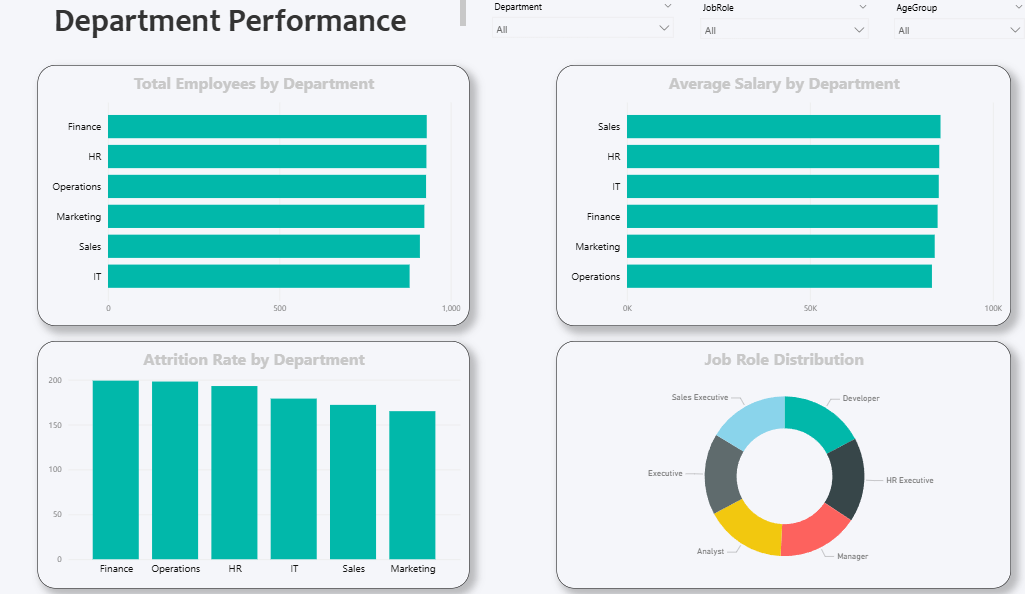

The page's visual inventory and layout, read from the dashboard file:
{"tool":"powerbi","page":{"name":"Department Analysis","canvas":[1379,804],"ordinal":1},"visuals":[{"type":"textbox","box":[0,0,630,70],"z":0},{"type":"barChart","title":"Total Employees by Department","fields":{"Category":["PowerBI_Employee_5000_Data.Department"],"Y":["CountNonNull(PowerBI_Employee_5000_Data.EmployeeID)"]},"box":[54,92,576,348],"z":1000},{"type":"columnChart","title":"Attrition Rate by Department","fields":{"Category":["PowerBI_Employee_5000_Data.Department"],"Y":["Sum(PowerBI_Employee_5000_Data.Attrition Count)"]},"box":[54,460,576,330],"z":2000},{"type":"barChart","title":"Average Salary by Department","fields":{"Category":["PowerBI_Employee_5000_Data.Department"],"Y":["Avg(PowerBI_Employee_5000_Data.Salary)"]},"box":[746,92,606,348],"z":3000},{"type":"donutChart","title":"Job Role Distribution","fields":{"Category":["PowerBI_Employee_5000_Data.JobRole"],"Y":["CountNonNull(PowerBI_Employee_5000_Data.EmployeeID)"]},"box":[746,460,606,330],"z":4000},{"type":"slicer","fields":{"Values":["PowerBI_Employee_5000_Data.Department"]},"box":[650,0,262,90],"z":5000},{"type":"slicer","fields":{"Values":["PowerBI_Employee_5000_Data.JobRole"]},"box":[928,2,244,90],"z":6000},{"type":"slicer","fields":{"Values":["PowerBI_Employee_5000_Data.AgeGroup"]},"box":[1186,2,194,88],"z":7000}]}

Visuals, with their boxes in screenshot pixels (x1, y1, x2, y2), scaled from the page's 1379x804 canvas onto the 1025x594 screenshot:
textbox: box=[0, 0, 468, 52]
"Total Employees by Department" barChart: box=[40, 68, 468, 325]
"Attrition Rate by Department" columnChart: box=[40, 340, 468, 584]
"Average Salary by Department" barChart: box=[554, 68, 1005, 325]
"Job Role Distribution" donutChart: box=[554, 340, 1005, 584]
slicer - PowerBI_Employee_5000_Data.Department: box=[483, 0, 678, 66]
slicer - PowerBI_Employee_5000_Data.JobRole: box=[690, 1, 871, 68]
slicer - PowerBI_Employee_5000_Data.AgeGroup: box=[882, 1, 1024, 66]
